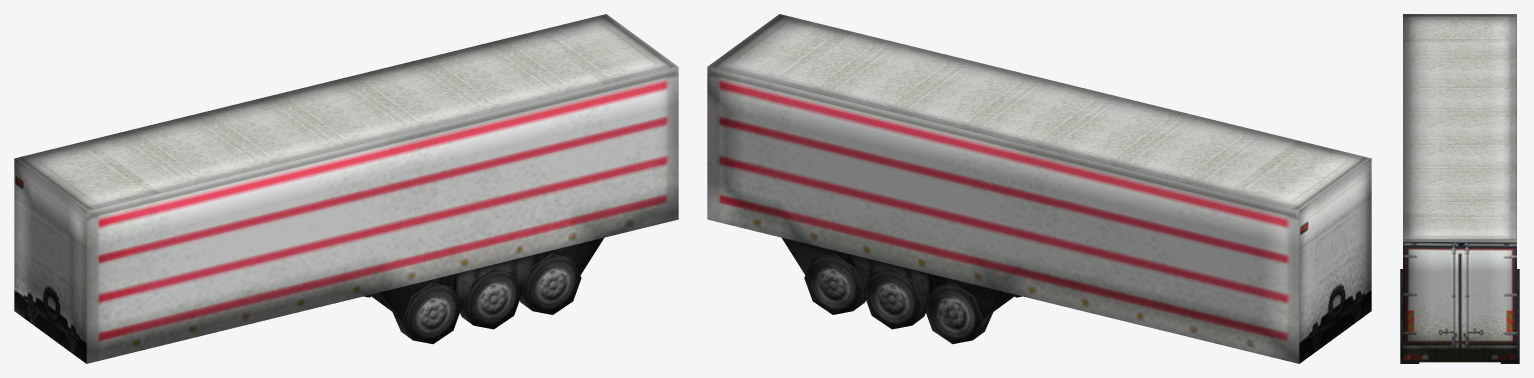
File: lorrytrailer1.fbx
3 renders of one model, left to right at view 1: azimuth 30°, elevation 25°; view 2: azimuth 150°, elevation 25°; view 3: azimuth 270°, elevation 25°, orthographic. The views are drawn at different scales.
Parts seen in each view (by area): view 1: lorrytrailer1; view 2: lorrytrailer1; view 3: lorrytrailer1.
Boxes of the visible parts, bbox=[...] form: lorrytrailer1: bbox=[14, 14, 678, 363]; lorrytrailer1: bbox=[707, 14, 1371, 363]; lorrytrailer1: bbox=[1400, 14, 1519, 363].
Bounding box in the file's own units: 1148 × 254 × 400.
1 material, 1 textured.
